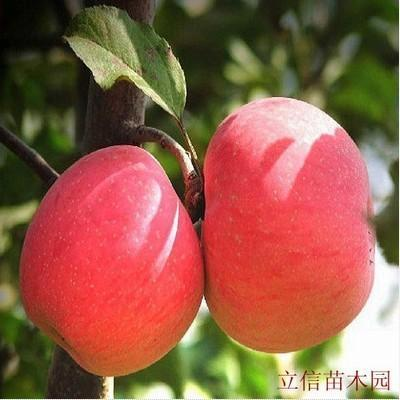apple: (196, 98, 374, 354), (18, 145, 205, 375)
